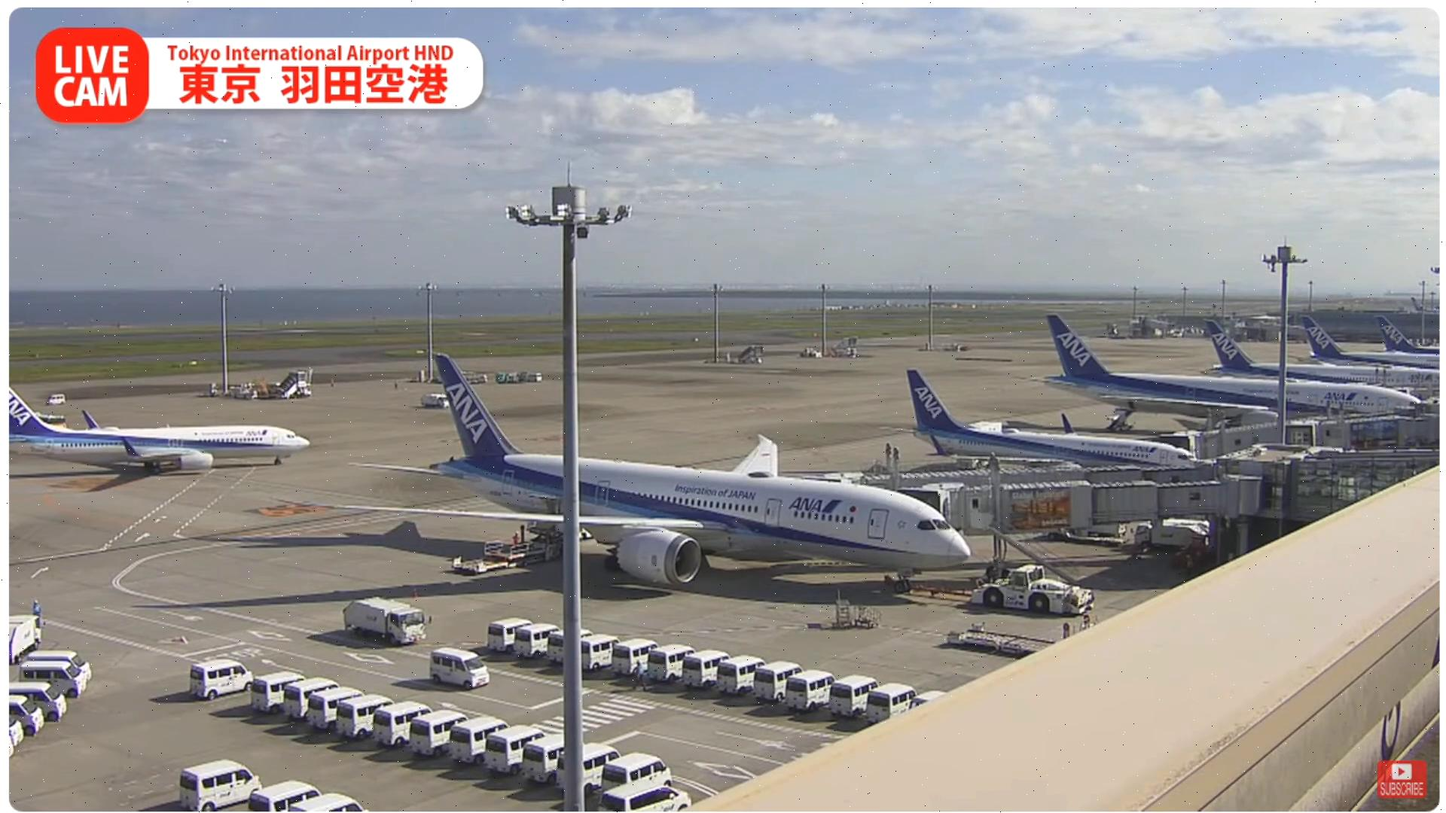APS: (970, 564, 1094, 617)
Aerobridge: (900, 453, 1261, 583), (806, 445, 1222, 488)
Airplane: (273, 351, 971, 600)
Baggage truck: (342, 596, 424, 645)
JCPL: (949, 615, 1102, 658), (450, 522, 564, 573)
Window: (1289, 458, 1438, 521)
